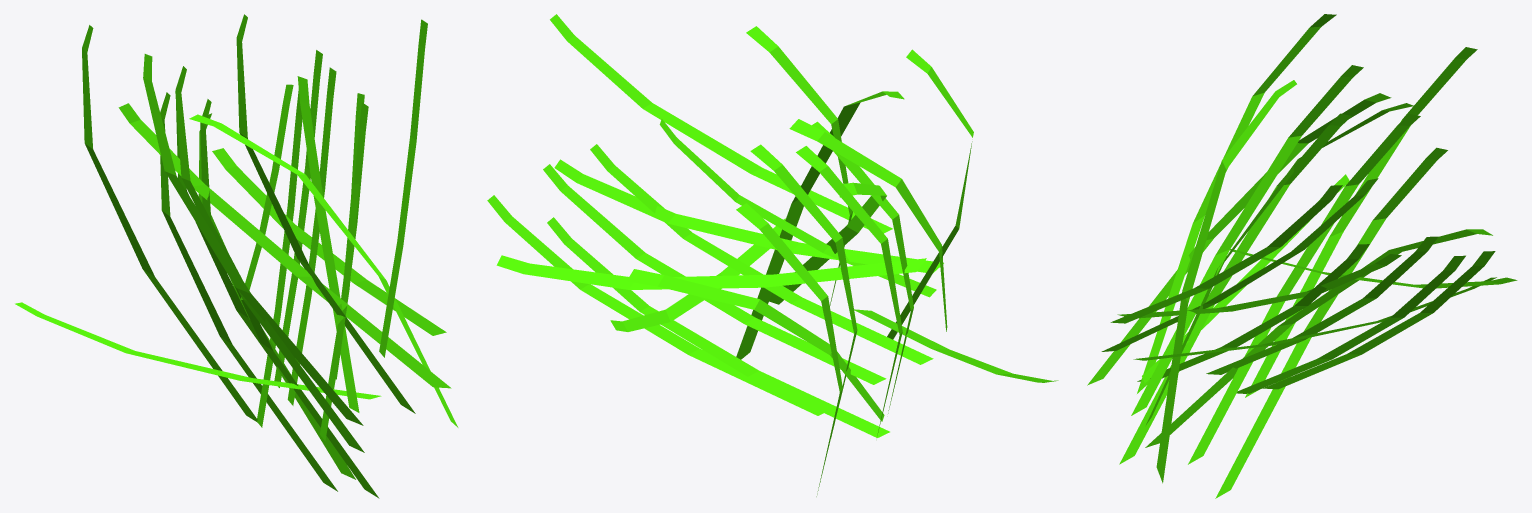
The model's file is GrassClump.fbx.
The picture shows the model from 3 angles, left to right: view 1: azimuth 30°, elevation 25°; view 2: azimuth 150°, elevation 25°; view 3: azimuth 270°, elevation 25°; orthographic projection. The views are drawn at different scales.
Visible parts, largest first — view 1: Grass_Clump; view 2: Grass_Clump; view 3: Grass_Clump.
Part boxes in pixels (x1,y1,x2,y2): Grass_Clump: (15,14,458,498); Grass_Clump: (487,14,1058,496); Grass_Clump: (1087,14,1517,498).
Bounding box in the file's own units: 65.57 × 66.23 × 61.05.
